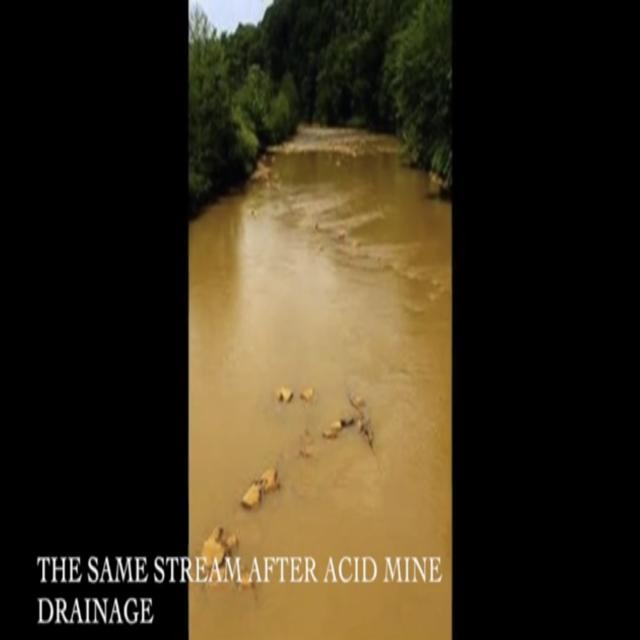yellow_boy: (187, 129, 453, 639)
